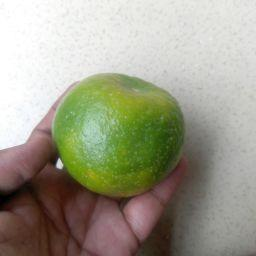Unripe: (53, 73, 185, 198)
